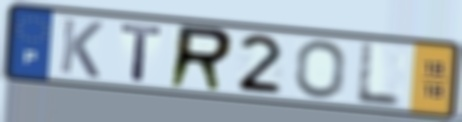2: (236, 33, 288, 98)
K: (57, 15, 106, 81)
L: (353, 41, 404, 109)
O: (294, 38, 348, 101)
R: (165, 22, 237, 94)
T: (118, 22, 167, 84)
